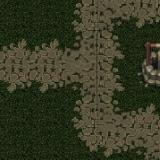Hide: (123, 28, 160, 101)
